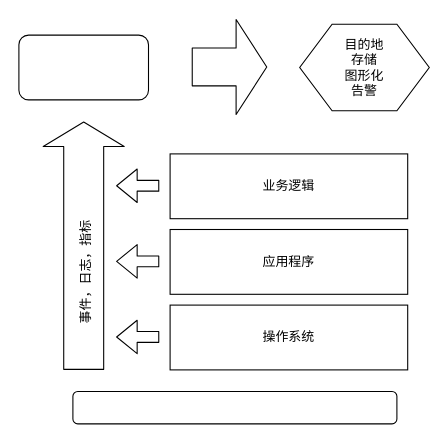
Some shapes in this 448 by 443 pixel diagram are drawn without their labels. Each missing label, with the centre of its shape:
"事件路由器" belongs at point 83,67.
"监控体系架构" belongs at point 234,407.
